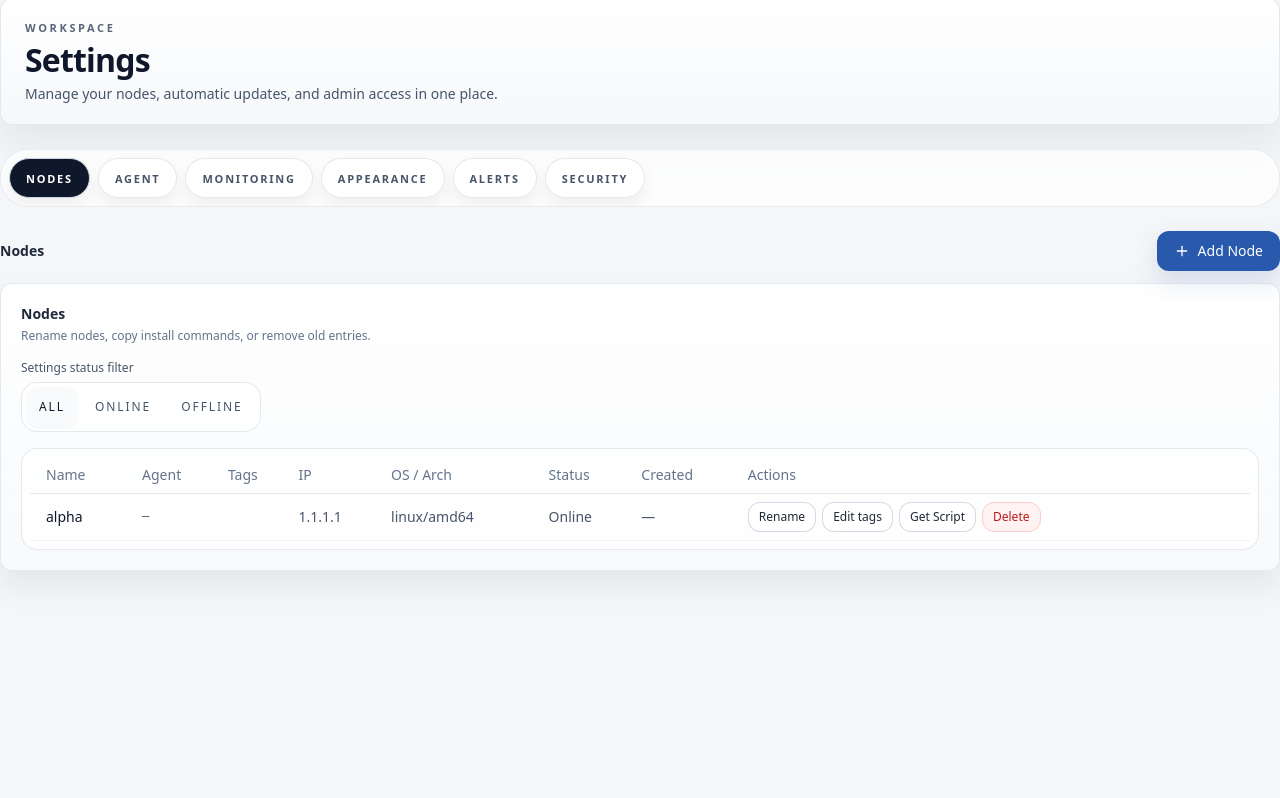
Test: settings section tabs › switches sections and updates the query string
Expected: the button "Add Node" is shown, [1157, 231, 1279, 271]
Click the tab "Agent": [138, 178] box [98, 158, 178, 198]
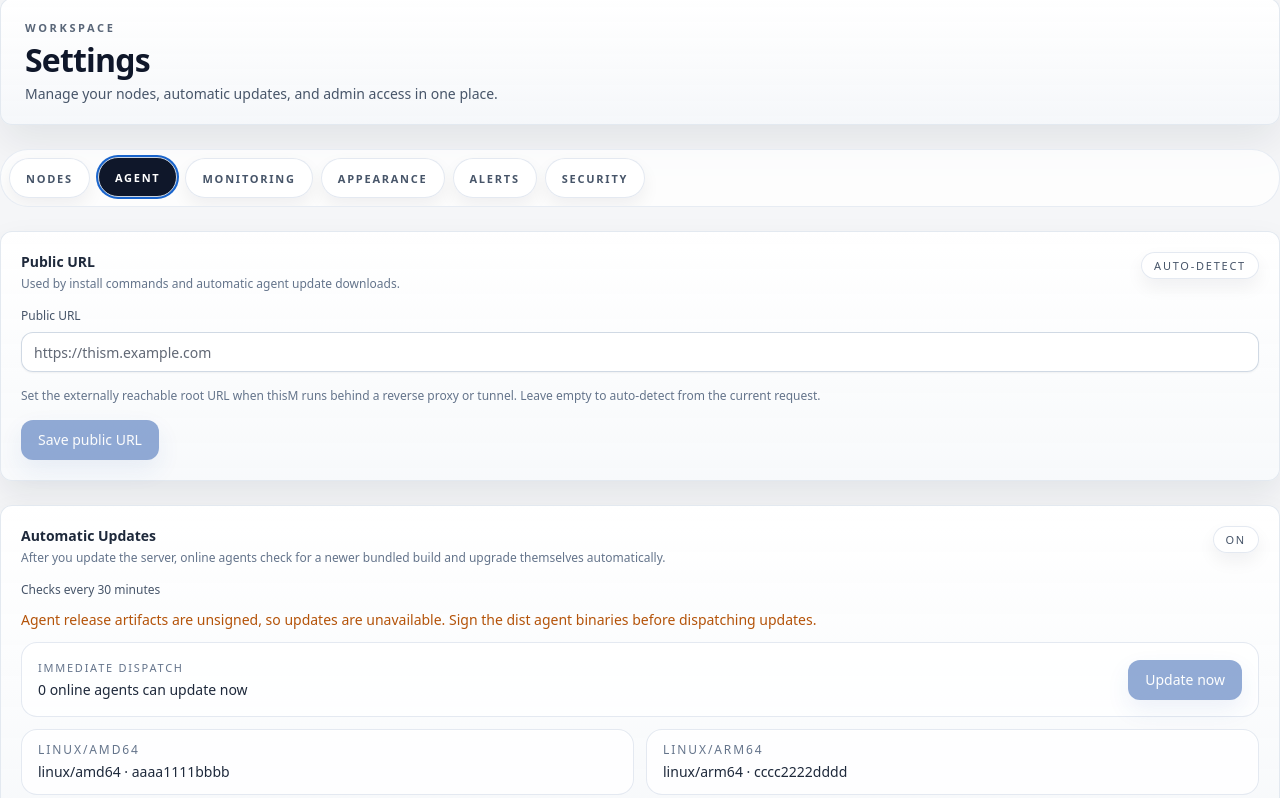
Expected: the heading "Latency Monitors" is not shown
Result: the heading "Automatic Updates" is shown at [21, 526, 156, 545]
Result: the button "Add Node" is gone
Click the tab "Monitoring": [249, 178] box [186, 158, 313, 198]
(page scrolled)
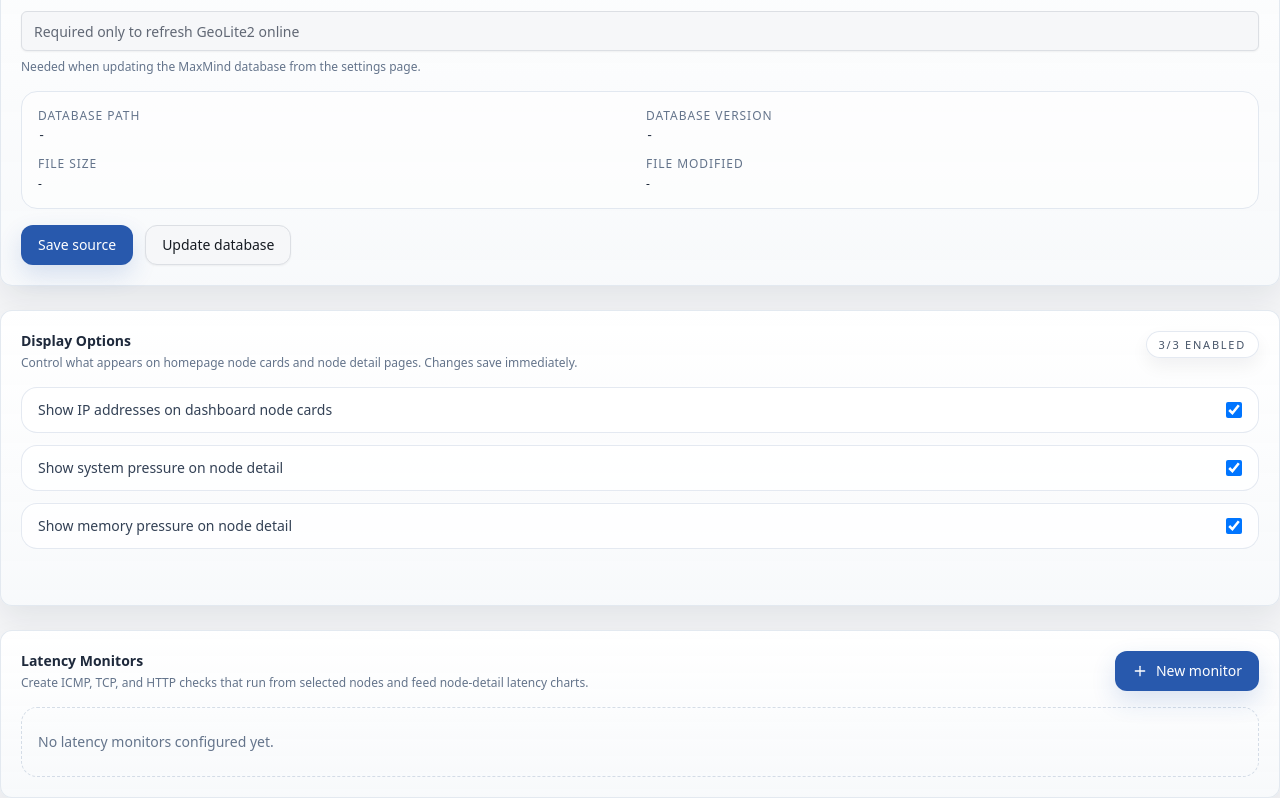
Result: the heading "Latency Monitors" is shown at [21, 651, 143, 670]
